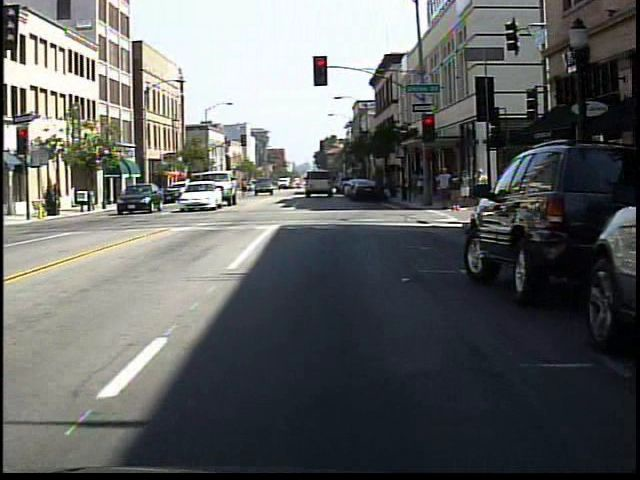person: (434, 165, 454, 210), (471, 166, 490, 210), (448, 168, 463, 214), (411, 166, 428, 203), (458, 168, 473, 209), (235, 173, 252, 202)
